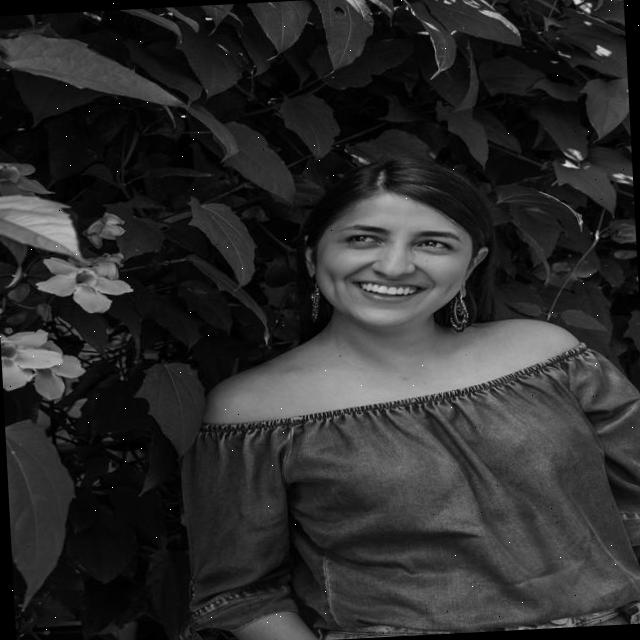Happiness: (311, 190, 478, 336)
